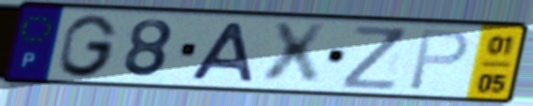8: (122, 17, 176, 79)
A: (186, 20, 257, 84)
G: (56, 12, 121, 79)
P: (405, 27, 472, 92)
X: (261, 22, 330, 87)
Z: (339, 24, 409, 93)
